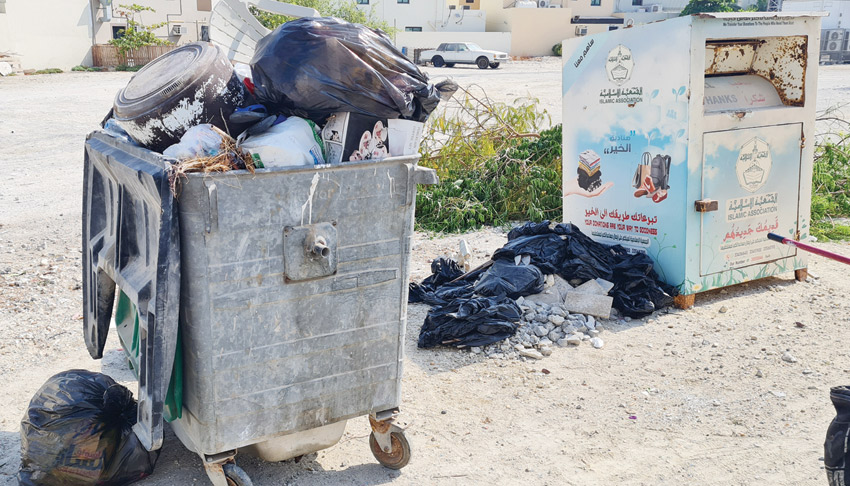trash_container: (83, 15, 420, 470)
